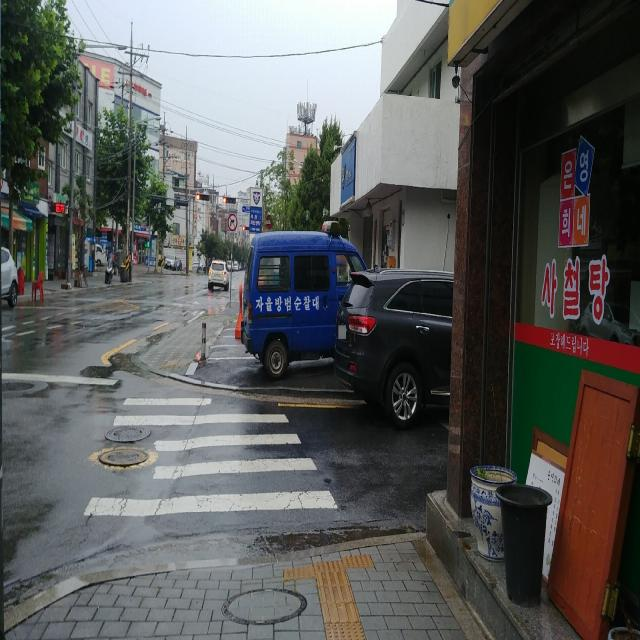횡단보도: (81, 396, 340, 520)
